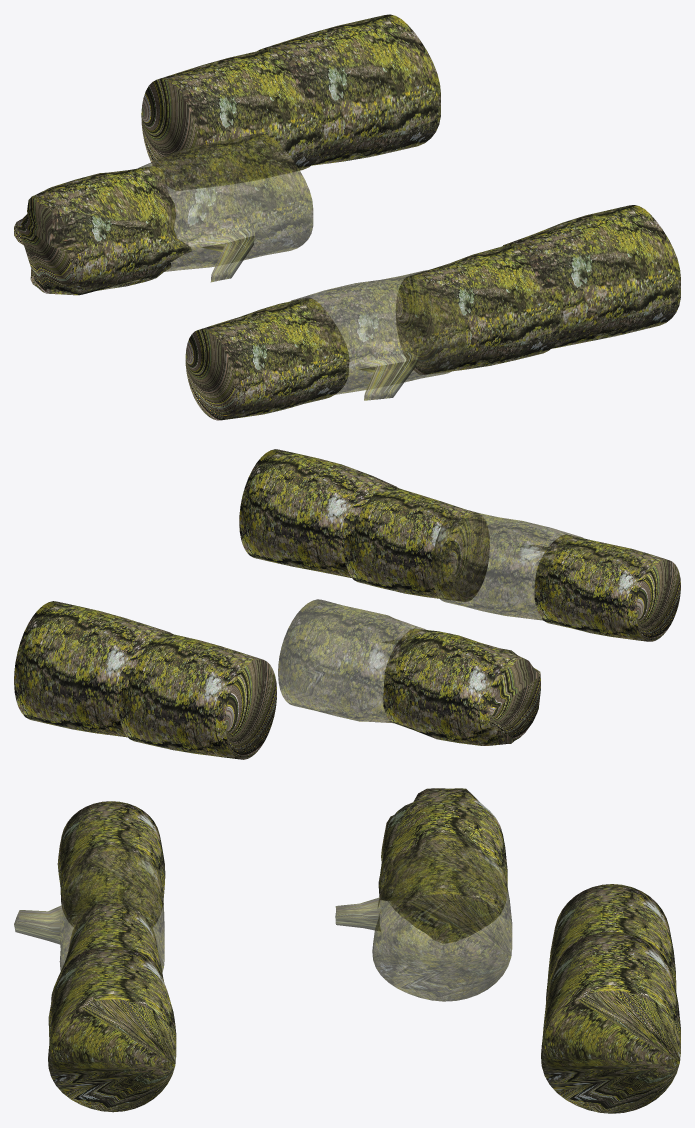
The model's file is troncos.fbx.
3 views of the same model, one above another, from view 1: azimuth 30°, elevation 25°; view 2: azimuth 150°, elevation 25°; view 3: azimuth 270°, elevation 25° (orthographic). The views are drawn at different scales.
Visible parts, largest first — view 1: Cylinder.001, Cylinder.003, Cylinder.004; view 2: Cylinder.001, Cylinder.003, Cylinder.004; view 3: Cylinder.001, Cylinder.003, Cylinder.004.
Boxes of the visible parts, <box> form: Cylinder.001: <box>185,205,680,420</box>; Cylinder.003: <box>141,14,440,190</box>; Cylinder.004: <box>14,133,313,295</box>; Cylinder.001: <box>239,449,680,641</box>; Cylinder.003: <box>14,601,276,759</box>; Cylinder.004: <box>278,599,540,745</box>; Cylinder.001: <box>14,801,176,1112</box>; Cylinder.003: <box>541,884,680,1113</box>; Cylinder.004: <box>335,788,512,1001</box>.
Bounding box in the file's own units: 778 × 202 × 969.
Materials: 8 (8 with a texture image).
